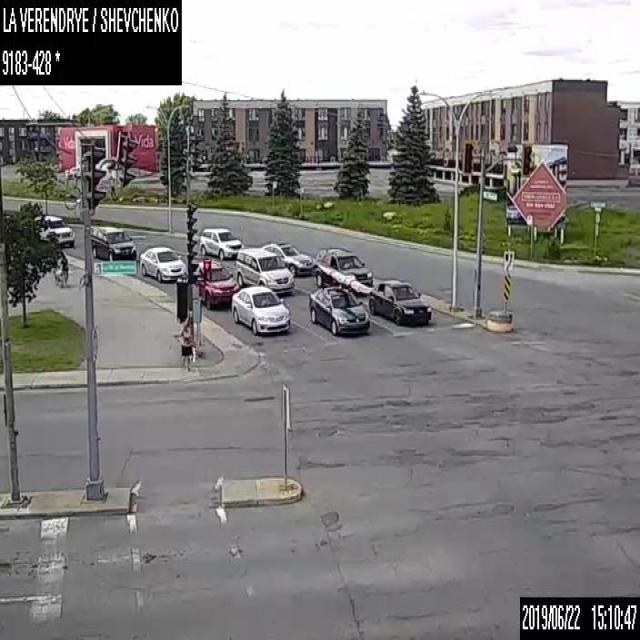pedestrian: (178, 318, 193, 370)
vehicle: (308, 284, 369, 337), (368, 278, 431, 324), (231, 285, 290, 334), (313, 246, 373, 294), (236, 246, 294, 290), (196, 258, 240, 309), (261, 240, 313, 274), (139, 246, 186, 282), (198, 225, 244, 259), (90, 225, 136, 259), (34, 213, 74, 247)
